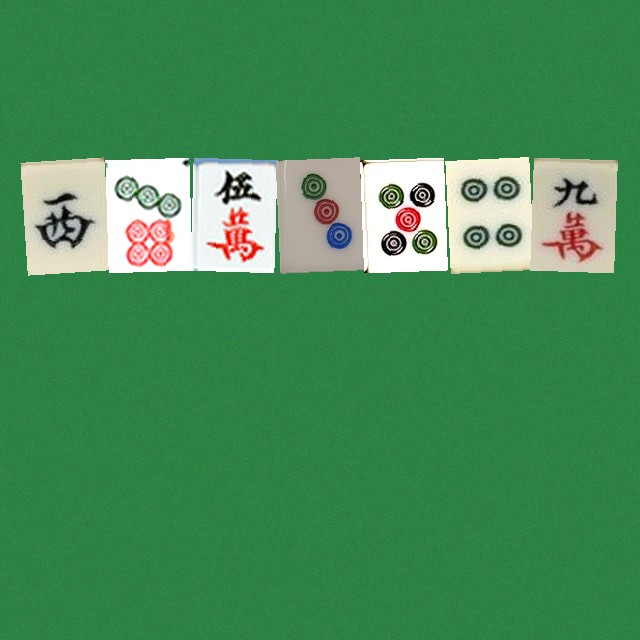tile: (20, 157, 104, 270), (105, 157, 189, 270), (190, 157, 274, 270), (275, 157, 359, 270), (360, 157, 444, 270), (445, 157, 529, 270), (530, 157, 614, 270)
